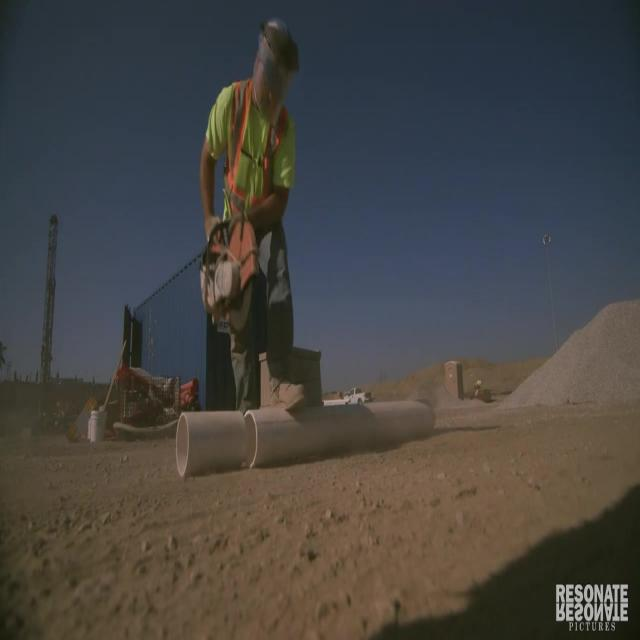Reflective-Jacket: (192, 74, 308, 306)
Safety-Helmet: (246, 10, 310, 90)
